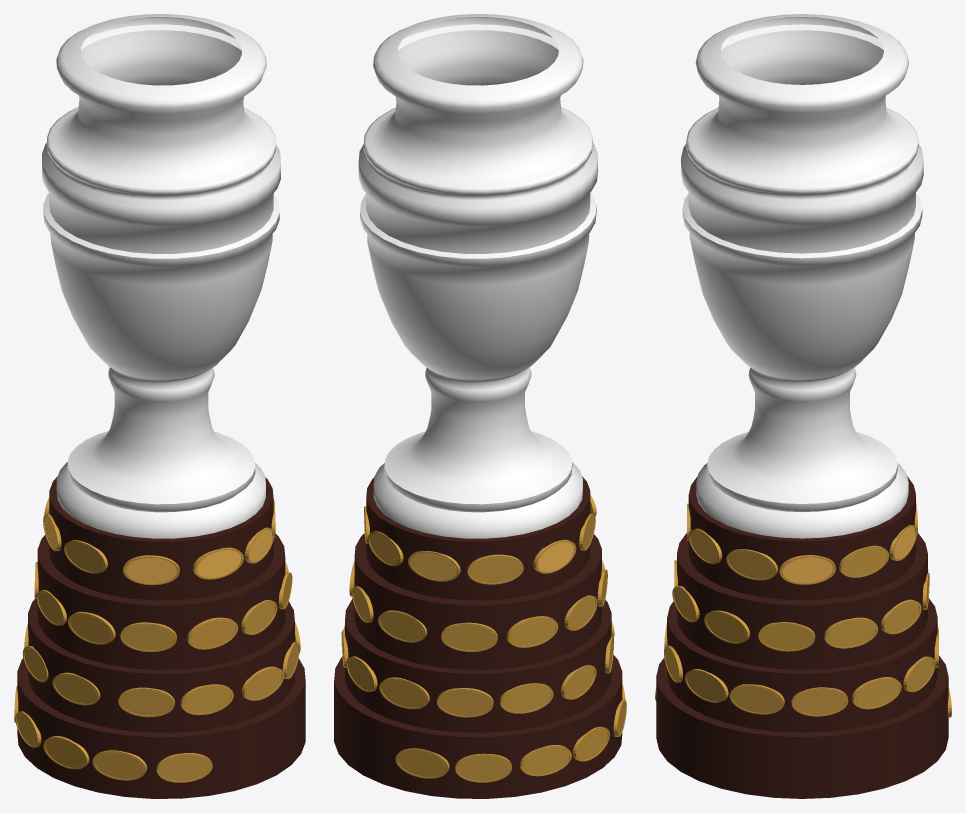
File: Copa america.glb
3 renders of one model, left to right at view 1: azimuth 30°, elevation 25°; view 2: azimuth 150°, elevation 25°; view 3: azimuth 270°, elevation 25°, orthographic.
Parts seen in each view (by area): view 1: BaseMadera_Cylinder; view 2: BaseMadera_Cylinder; view 3: BaseMadera_Cylinder.
Boxes of the visible parts, bbox=[...] form: BaseMadera_Cylinder: bbox=[14, 14, 305, 798]; BaseMadera_Cylinder: bbox=[334, 14, 626, 798]; BaseMadera_Cylinder: bbox=[655, 14, 951, 798].
Size of the model in its own units: 1.16 by 3.01 by 1.18.
